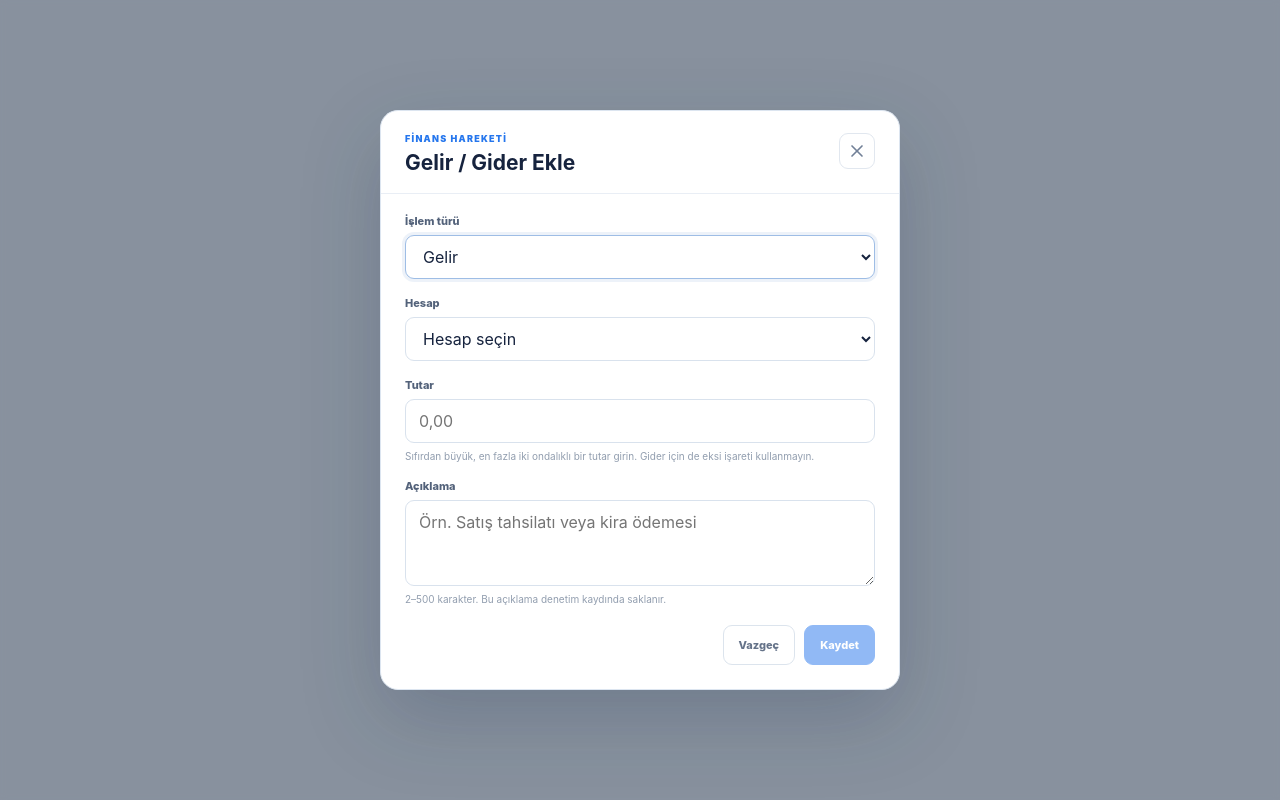
Test case: finance cashflow › takes currency from the selected account and requires an account
Check: the button "Kaydet" is disabled, box [804,625,875,665]
Select "Döviz (USD)" in the dropdown labelled "Hesap" at point(640, 339), box [405,317,875,361]
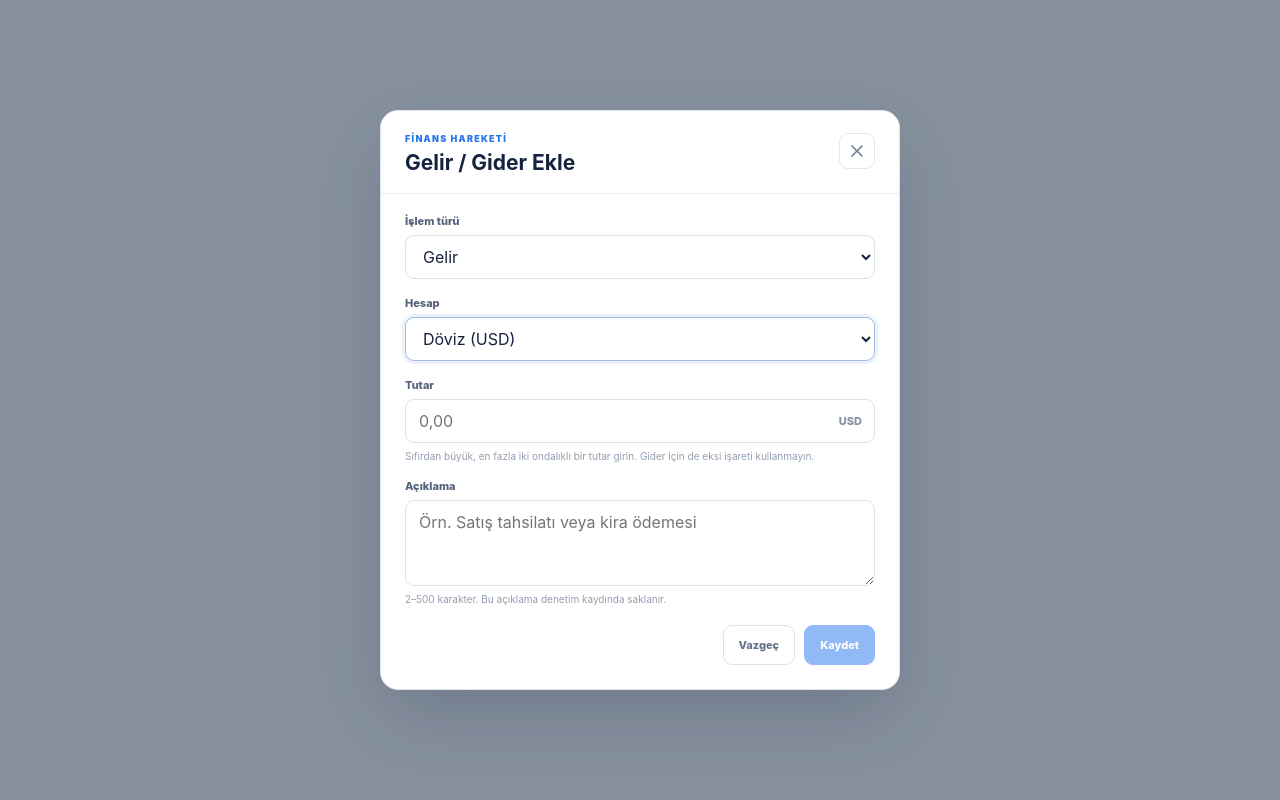
Check: the text "USD" is shown, box [839,414,862,428]
Select "Kasa (TRY)" in the dropdown labelled "Hesap" at point(640, 339), box [405,317,875,361]
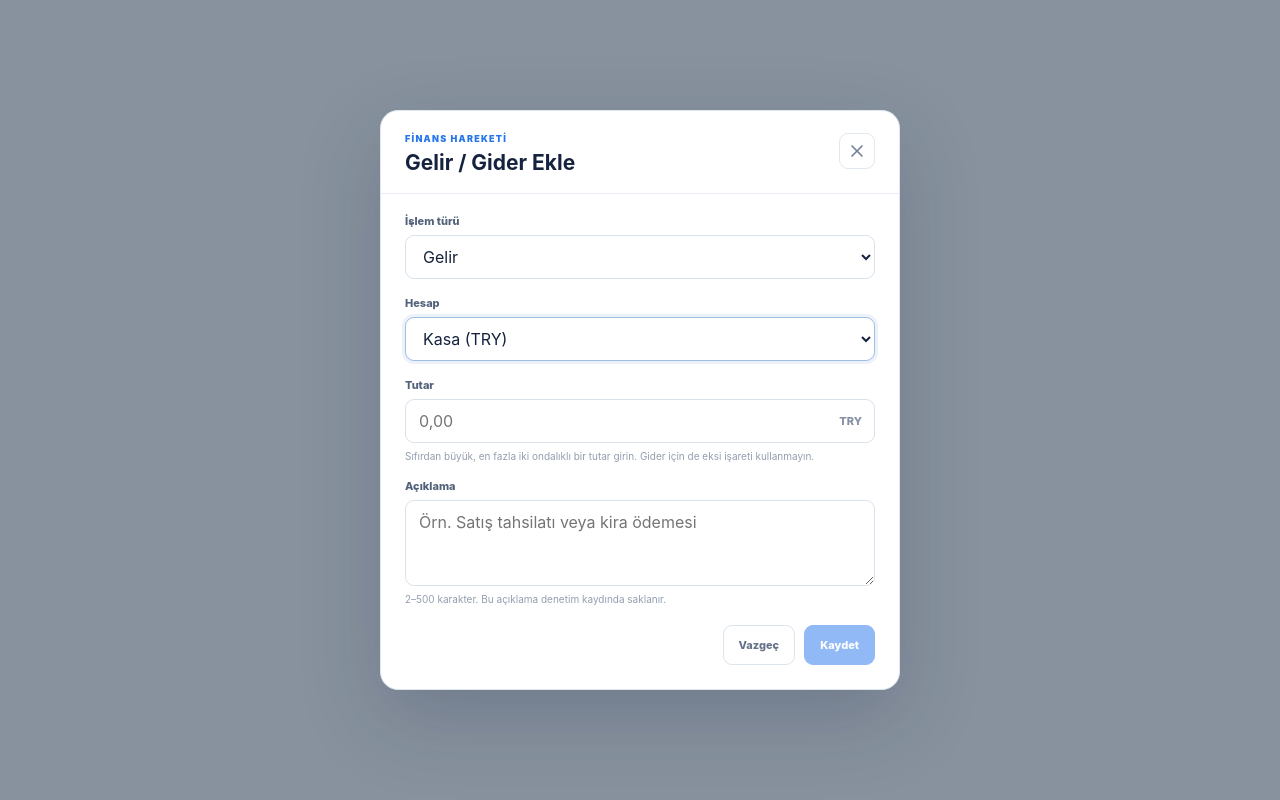
Check: the text "TRY" is shown, box [839,414,862,428]
